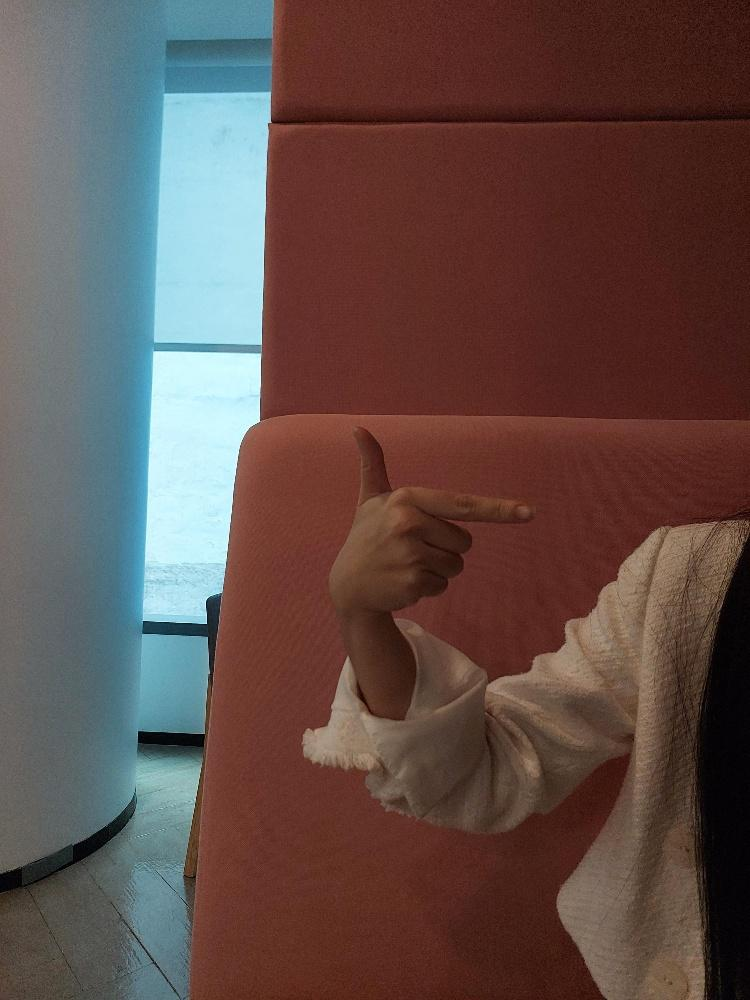g: (327, 423, 536, 609)
